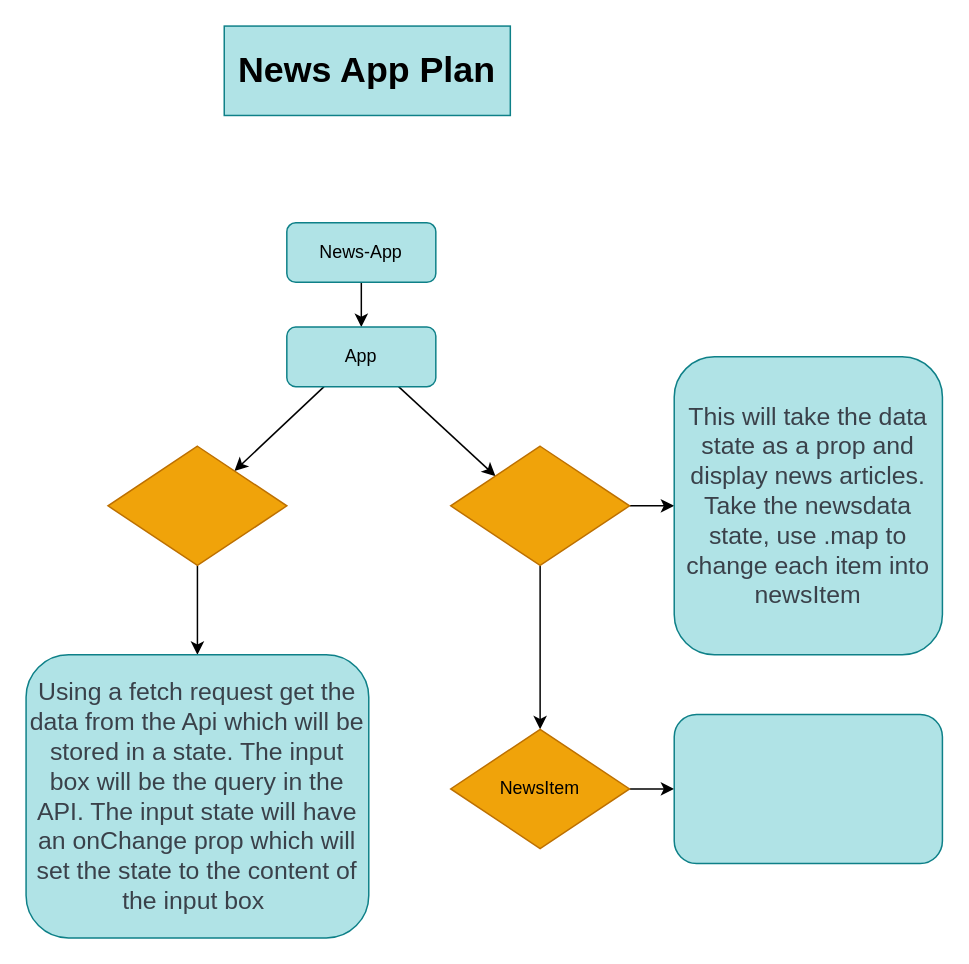
Some shapes in this 969 by 964 pixel diagram are drawn without their labels. Here are the shapes that lost their labels. From the top down, the centre of each, then its label:
At pixel 197 505: "NewsSearchBar".
At pixel 539 505: "NewsDisplay".
At pixel 807 788: "This will be the news article. Which will be displayed by newsDisplay".
